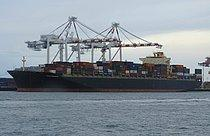Ship: (9, 15, 206, 100)
